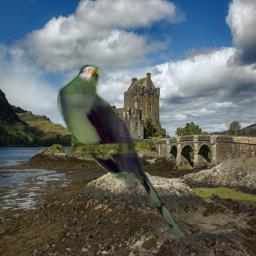Cuckoo: (57, 64, 192, 239)
